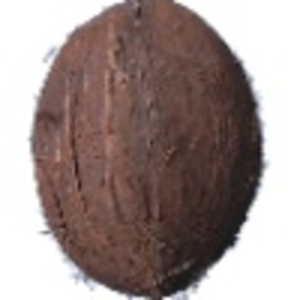coco: (33, 1, 269, 300)
